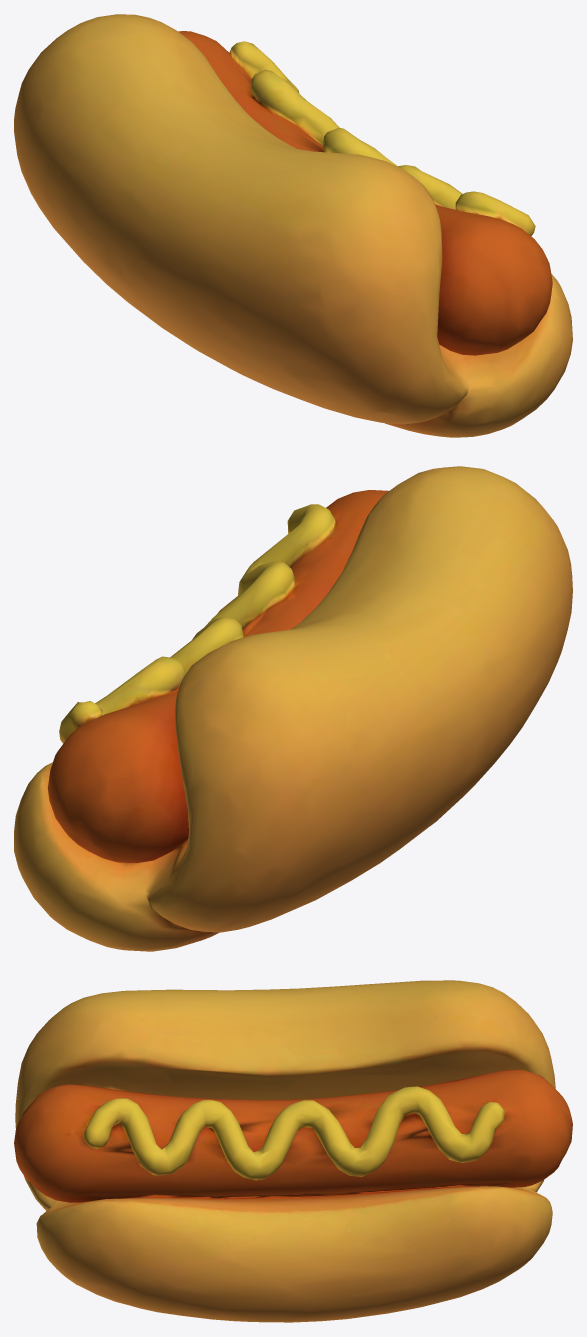
Rendered from food_hot_dog.glb.
3 renders of one model, top to bottom at view 1: azimuth 30°, elevation 25°; view 2: azimuth 150°, elevation 25°; view 3: azimuth 270°, elevation 25°, orthographic. The views are drawn at different scales.
Visible parts, largest first — view 1: tripo_node_b550a9fd-b3fd-422d-8153-92d16c844e8c; view 2: tripo_node_b550a9fd-b3fd-422d-8153-92d16c844e8c; view 3: tripo_node_b550a9fd-b3fd-422d-8153-92d16c844e8c.
Boxes of the visible parts, bbox=[...] form: tripo_node_b550a9fd-b3fd-422d-8153-92d16c844e8c: bbox=[14, 14, 572, 437]; tripo_node_b550a9fd-b3fd-422d-8153-92d16c844e8c: bbox=[14, 466, 572, 951]; tripo_node_b550a9fd-b3fd-422d-8153-92d16c844e8c: bbox=[14, 980, 572, 1322].
Size of the model in its own units: 1.19 by 1 by 1.95.
Materials: 1 (1 with a texture image).
